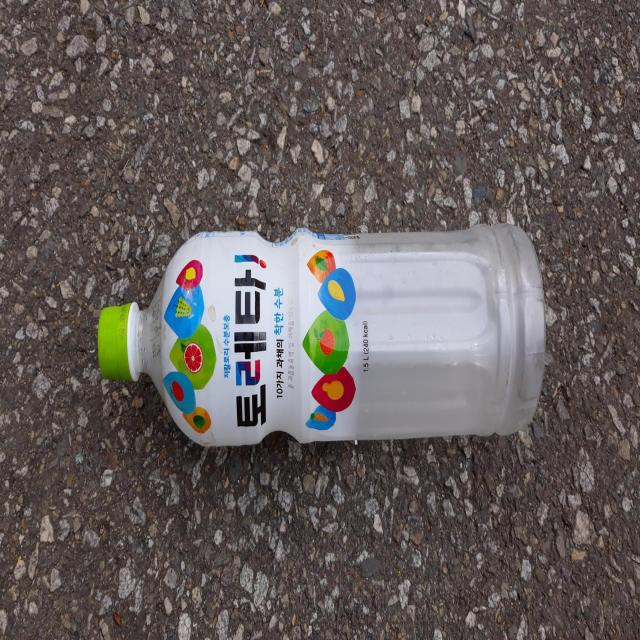plastic: (97, 223, 546, 446)
